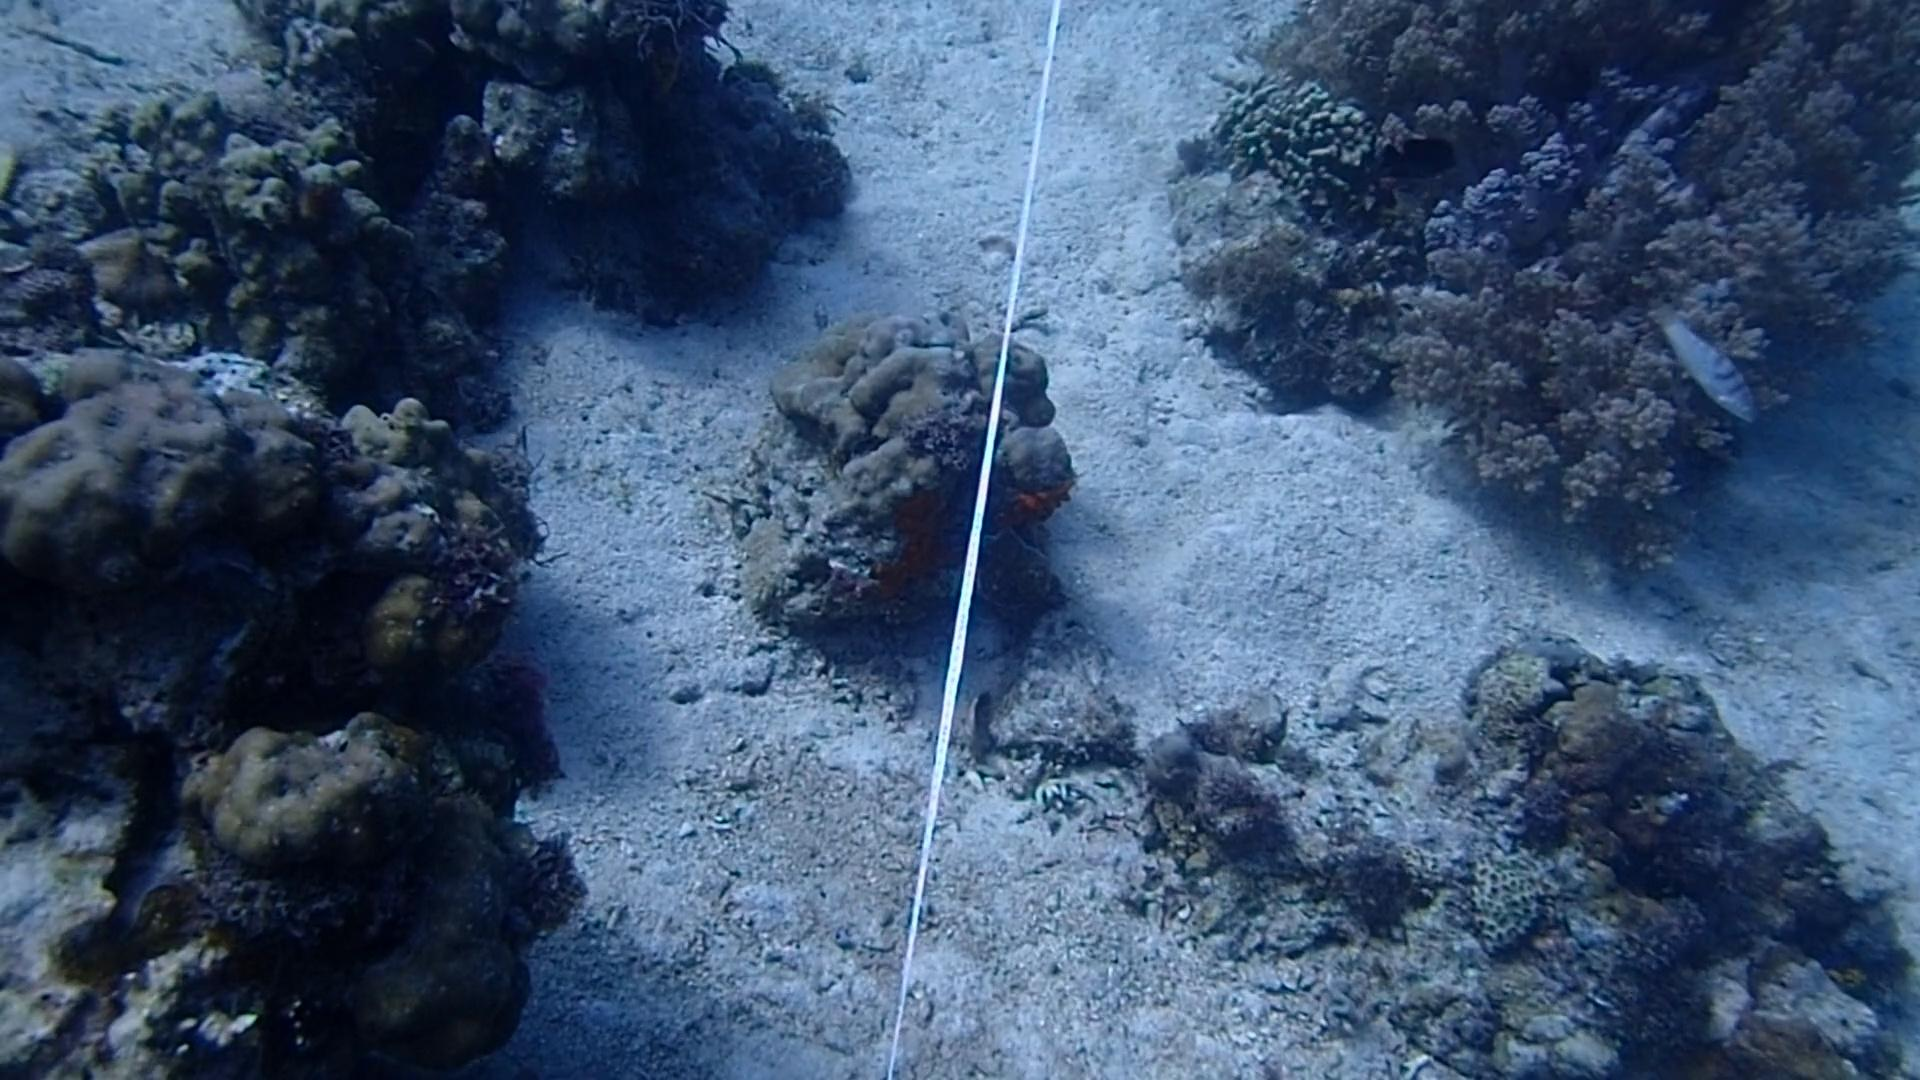Dark Fish: (1364, 131, 1468, 196)
Light Fish w Back Stripes: (1643, 301, 1764, 433)
